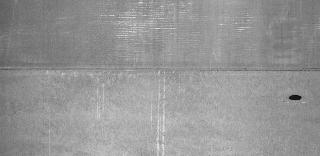punching hole: (288, 92, 304, 102)
welding line: (2, 62, 318, 76)
